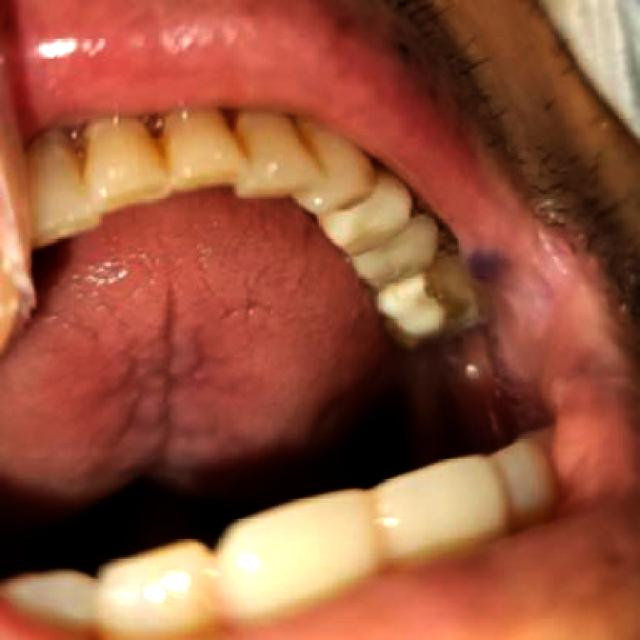Plaque: (374, 273, 455, 343)
